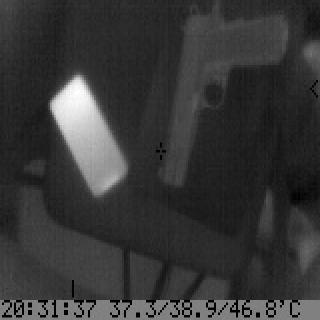Gun: (154, 2, 292, 192)
